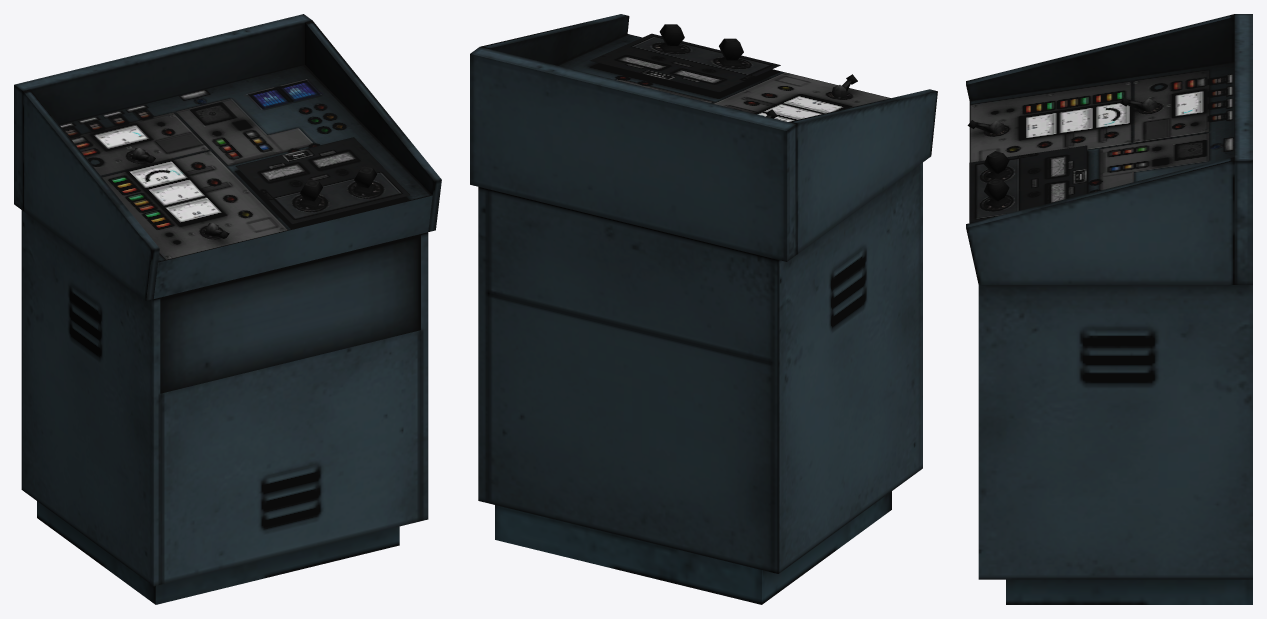
The model's file is ctl_engine_control_lod2.glb.
The picture shows the model from 3 angles, left to right: view 1: azimuth 30°, elevation 25°; view 2: azimuth 150°, elevation 25°; view 3: azimuth 270°, elevation 25°; orthographic projection. The views are drawn at different scales.
Parts seen in each view (by area): view 1: surf0; view 2: surf0; view 3: surf0.
Boxes of the visible parts, box(x1,y1,x2,y2) form: surf0: box(14, 14, 441, 604); surf0: box(470, 14, 937, 604); surf0: box(966, 14, 1252, 604).
Bounding box in the file's own units: 38 × 55 × 31.38.
